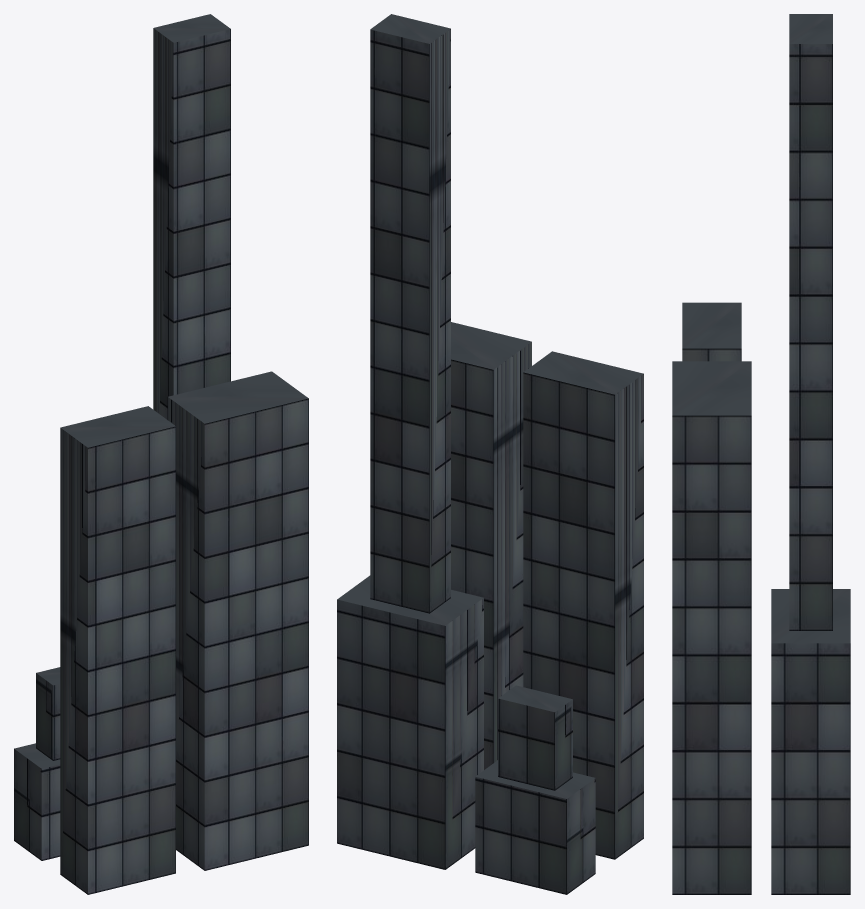
Rendered from block_27.obj.
3 renders of one model, left to right at view 1: azimuth 30°, elevation 25°; view 2: azimuth 150°, elevation 25°; view 3: azimuth 270°, elevation 25°, orthographic. The views are drawn at different scales.
Visible parts, largest first — view 1: b3, b1, b2, b0; view 2: b2, b1, b3, b0; view 3: b2, b3, b1.
Part boxes in pixels (x1,y1,x2,y2): b3: (167, 371, 308, 870); b1: (60, 406, 175, 894); b2: (153, 14, 230, 419); b0: (14, 667, 60, 860); b2: (337, 14, 483, 869); b1: (523, 351, 643, 859); b3: (451, 322, 531, 769); b0: (475, 685, 595, 894); b2: (771, 14, 850, 894); b3: (672, 361, 751, 894); b1: (682, 302, 741, 361).
Bounding box in the file's own units: 4.05 × 14 × 2.7.
